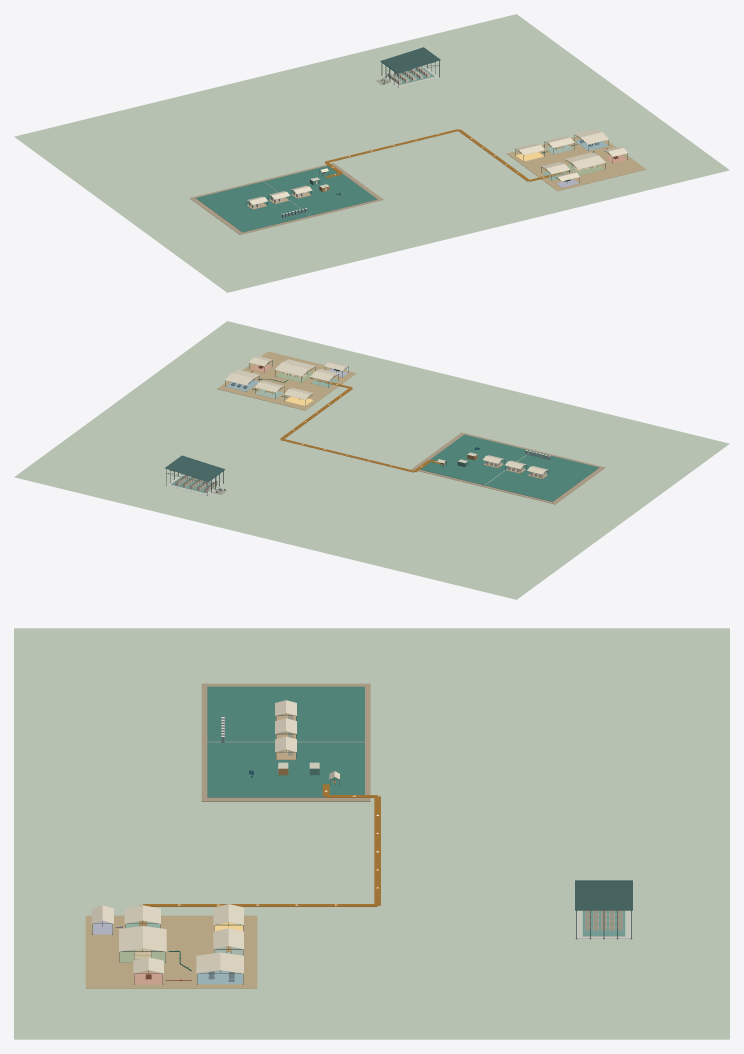
Rendered from cali_activa.glb.
The picture shows the model from 3 angles, top to bottom: view 1: azimuth 30°, elevation 25°; view 2: azimuth 150°, elevation 25°; view 3: azimuth 270°, elevation 25°; orthographic projection. The views are drawn at different scales.
Visible parts, largest first — view 1: object 1, object 3, object 43, object 2, techo-coliseo-opaco, flujo-direccional; view 2: object 1, object 3, object 43, object 2, techo-coliseo-opaco, flujo-direccional; view 3: object 1, object 3, object 43, object 2, techo-coliseo-opaco, flujo-direccional.
Part boxes in pixels (x1,y1,x2,y2): object 1: [14, 14, 729, 292]; object 3: [196, 165, 377, 232]; object 43: [506, 136, 646, 190]; object 2: [190, 163, 383, 234]; techo-coliseo-opaco: [381, 47, 440, 73]; flujo-direccional: [324, 129, 556, 181]; object 1: [14, 321, 729, 599]; object 3: [420, 434, 599, 501]; object 43: [217, 351, 356, 410]; object 2: [411, 432, 605, 504]; techo-coliseo-opaco: [165, 455, 224, 481]; flujo-direccional: [280, 381, 445, 472]; object 1: [14, 628, 729, 1039]; object 3: [207, 686, 364, 797]; object 43: [85, 915, 257, 988]; object 2: [201, 683, 370, 801]; techo-coliseo-opaco: [575, 880, 632, 910]; flujo-direccional: [139, 784, 380, 926].
Bounding box in the file's own units: 340 × 11.49 × 250.
